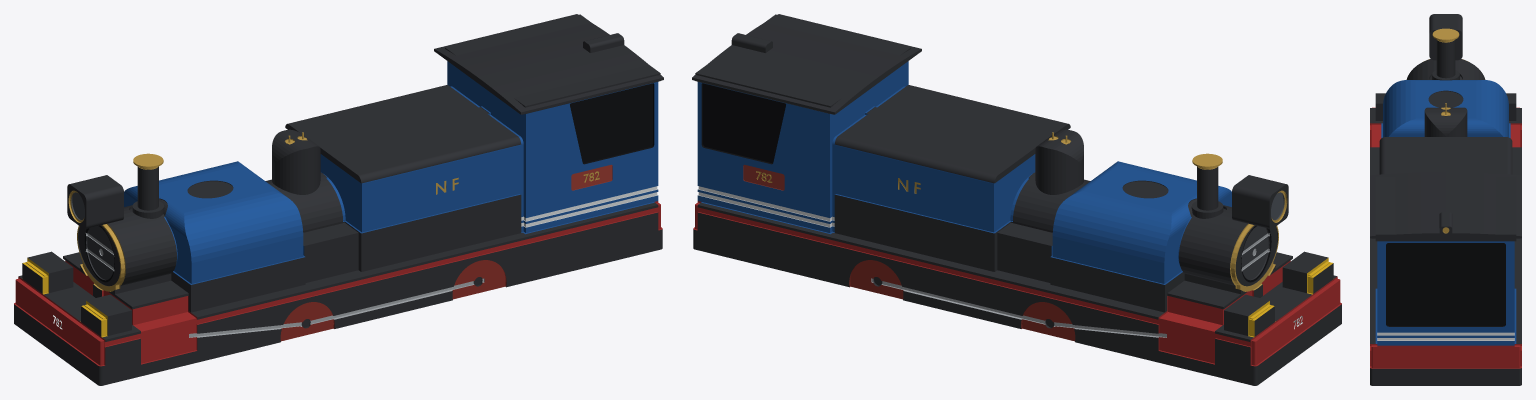
File: darjeeling.glb
3 views of the same model, side by side, from view 1: azimuth 30°, elevation 25°; view 2: azimuth 150°, elevation 25°; view 3: azimuth 270°, elevation 25° (orthographic). The views are drawn at different scales.
Parts seen in each view (by area): view 1: dhr_darjeeling; view 2: dhr_darjeeling; view 3: dhr_darjeeling.
Boxes of the visible parts, x1,y1,x2,y2 form: dhr_darjeeling: [14, 14, 663, 385]; dhr_darjeeling: [692, 14, 1341, 385]; dhr_darjeeling: [1370, 14, 1521, 385].
Size of the model in its own units: 150 by 46.3 by 40.
